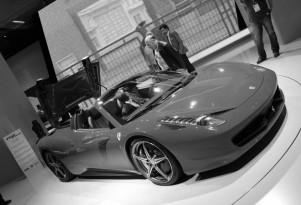car: (25, 55, 291, 187)
